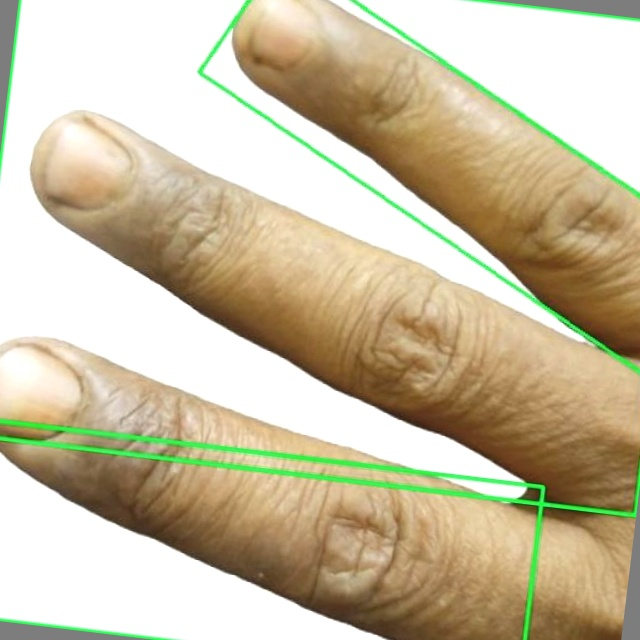Eczema: (0, 0, 639, 515), (199, 0, 639, 372), (0, 421, 543, 639)
